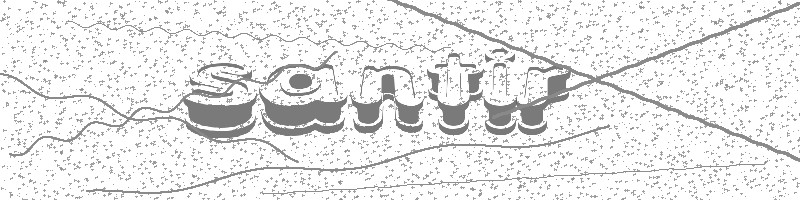a: (256, 60, 347, 136)
i: (484, 45, 518, 137)
n: (350, 61, 427, 136)
r: (516, 62, 573, 135)
s: (179, 58, 258, 138)
t: (424, 51, 483, 136)
